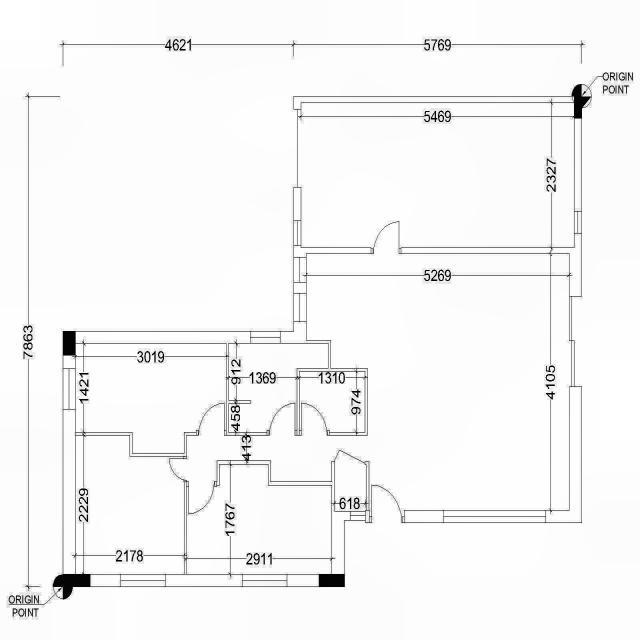Column: (62, 330, 76, 356), (62, 574, 90, 587), (319, 574, 345, 587), (574, 95, 582, 118)
Door: (443, 510, 546, 523), (372, 485, 402, 523), (198, 402, 224, 436), (301, 402, 327, 436), (269, 402, 295, 436), (373, 221, 399, 254), (188, 482, 214, 514), (332, 448, 369, 466), (169, 458, 187, 481)
Sliding Door: (569, 296, 577, 387)
Window: (120, 574, 166, 587), (242, 574, 288, 587), (63, 368, 76, 409), (250, 331, 280, 344), (294, 293, 306, 322), (294, 256, 306, 282), (294, 221, 302, 246), (574, 210, 582, 233), (350, 511, 366, 521)
